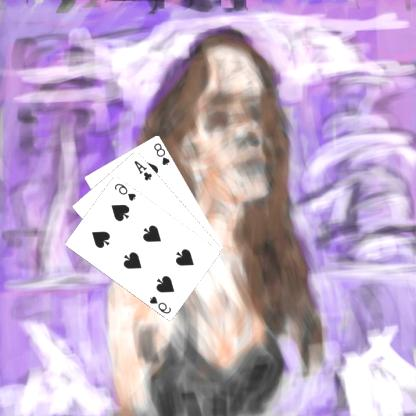6S: (113, 180, 139, 202), (148, 293, 174, 315)
8S: (153, 140, 173, 166)
AC: (133, 157, 155, 182)
